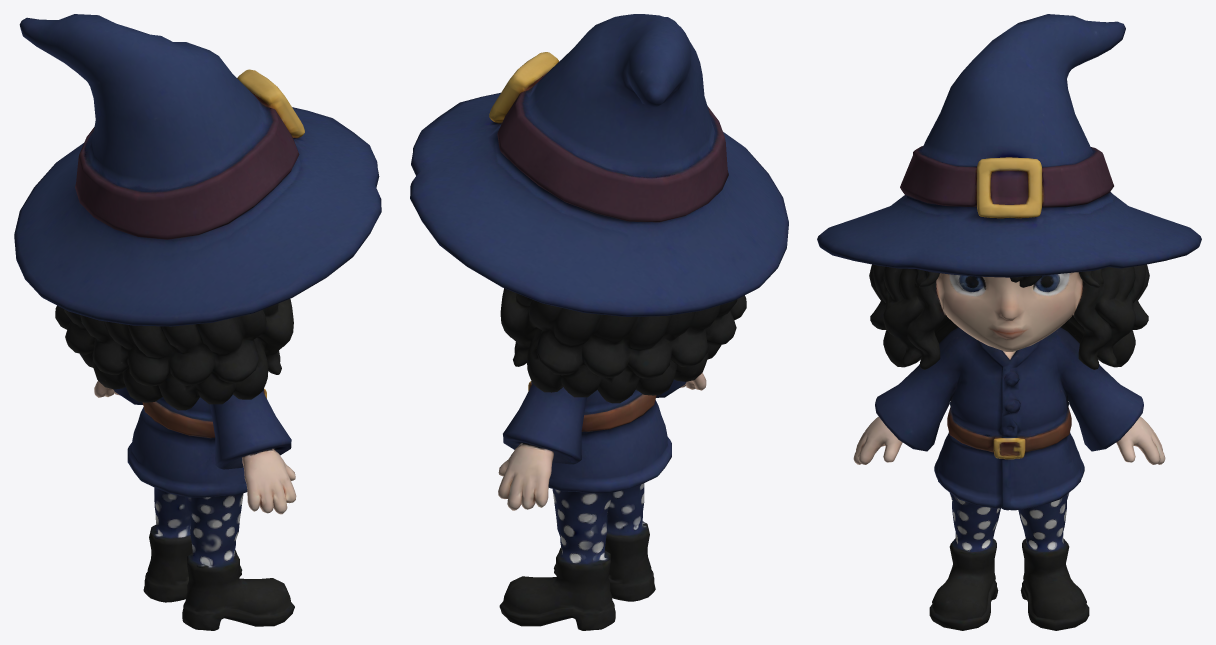
The model's file is tripo_convert_a8444904-6b9d-4677-8627-023d41d987b0.fbx.
3 views of the same model, side by side, from view 1: azimuth 30°, elevation 25°; view 2: azimuth 150°, elevation 25°; view 3: azimuth 270°, elevation 25° (orthographic). The views are drawn at different scales.
Visible parts, largest first — view 1: tripo_node_a8444904; view 2: tripo_node_a8444904; view 3: tripo_node_a8444904.
Boxes of the visible parts, left/top/right/bottom form: tripo_node_a8444904: left=14, top=14, right=381, bottom=630; tripo_node_a8444904: left=410, top=14, right=788, bottom=630; tripo_node_a8444904: left=817, top=14, right=1201, bottom=630.
Size of the model in its own units: 0.5558 by 1 by 0.636.
1 material, 1 textured.
